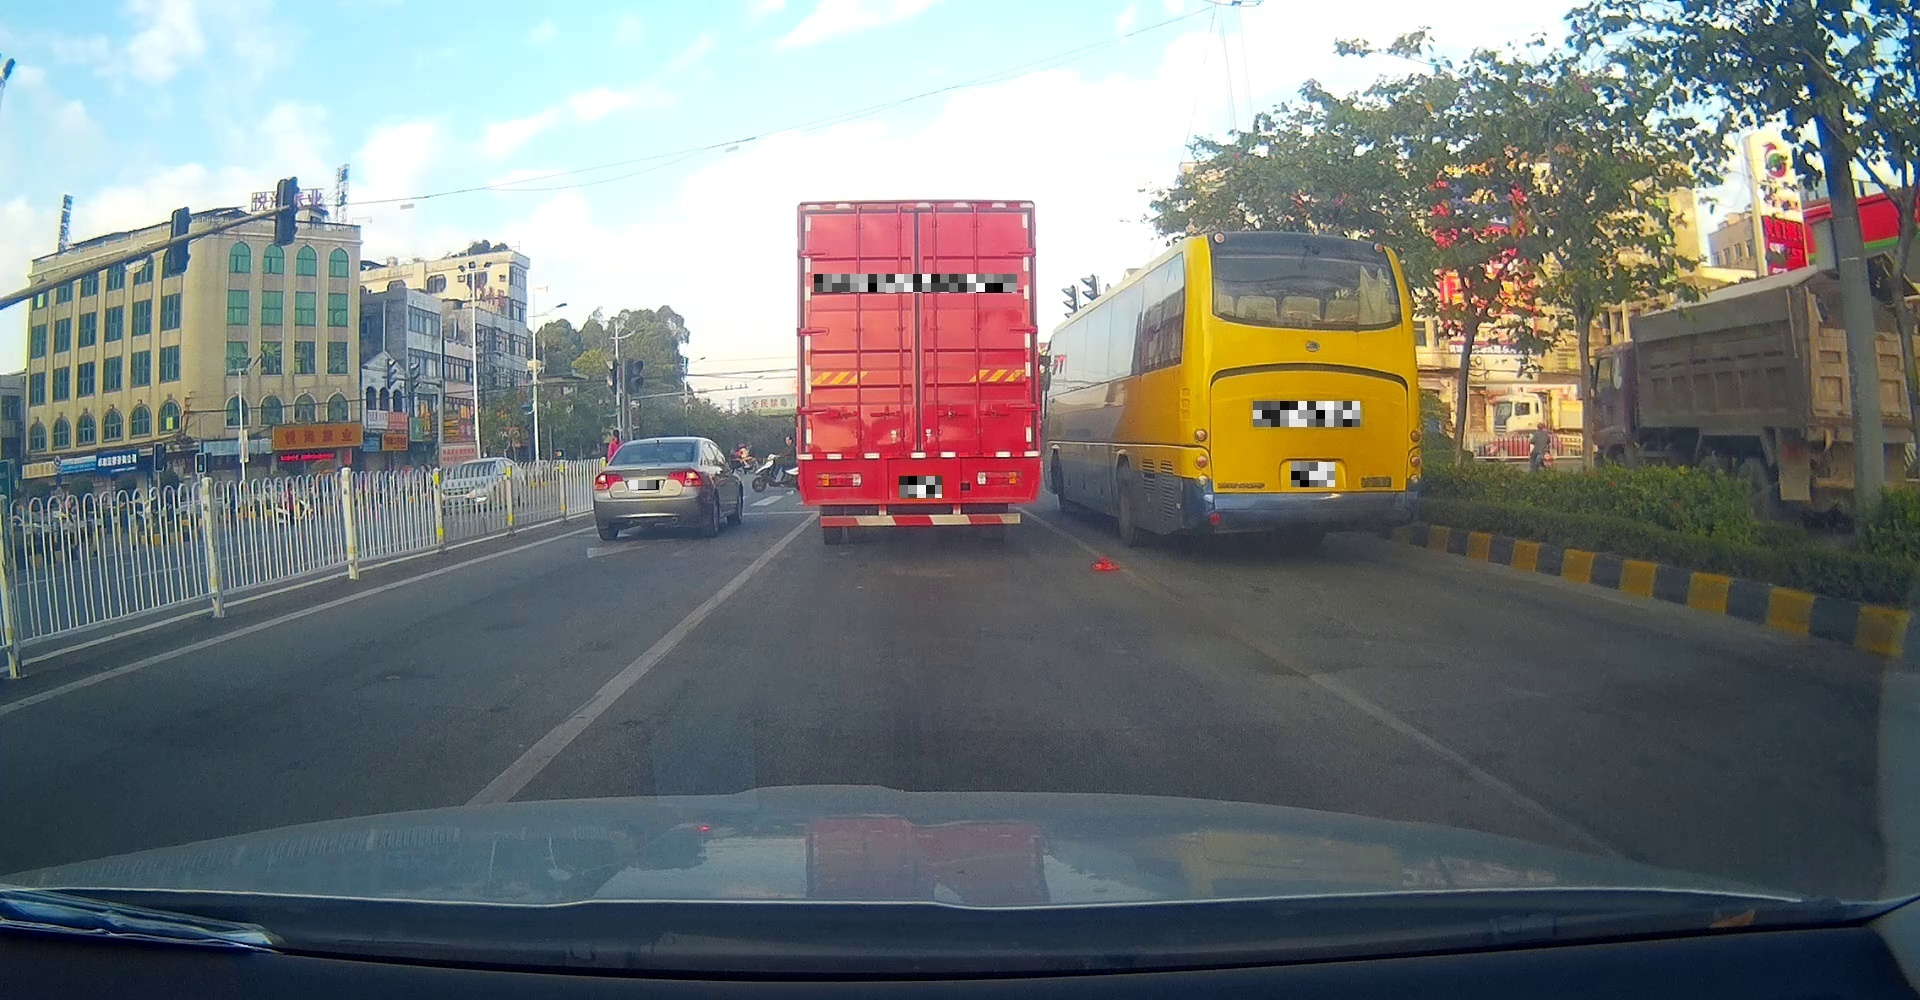L_light: (1194, 429, 1209, 489), (815, 472, 861, 486), (594, 473, 623, 491)
R_light: (1408, 430, 1422, 484), (975, 471, 1022, 486), (667, 468, 702, 487)
T_light: (1289, 313, 1356, 330), (897, 209, 936, 222), (650, 443, 664, 449)
day-brake: (593, 437, 702, 541)
day-no: (795, 199, 1040, 544), (1192, 231, 1422, 547)
plate_1: (629, 480, 659, 490)
plate_2: (814, 274, 1017, 293)
plate_3: (899, 476, 942, 497)
plate_4: (1253, 401, 1360, 426)
plate_5: (1291, 462, 1335, 487)
